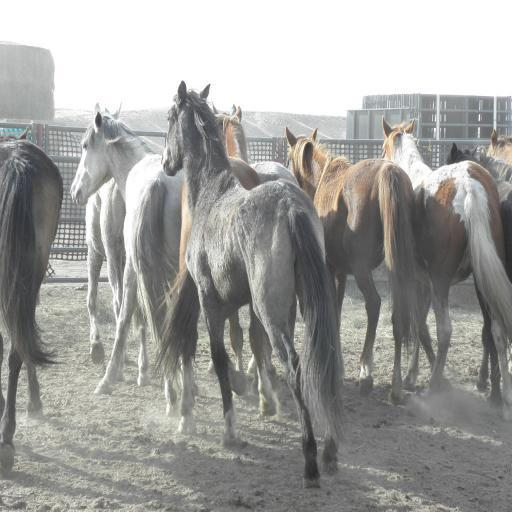horse: (67, 75, 512, 488), (0, 122, 64, 478)
